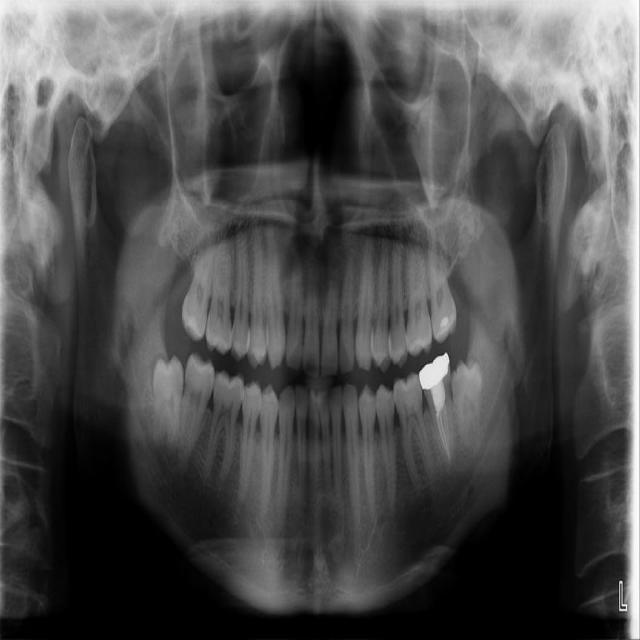Crown: (419, 353, 452, 402)
Filling: (439, 316, 449, 327)
Root Canal Treatment: (439, 414, 449, 459)
impacted tooth: (154, 356, 184, 463), (452, 362, 484, 451)
